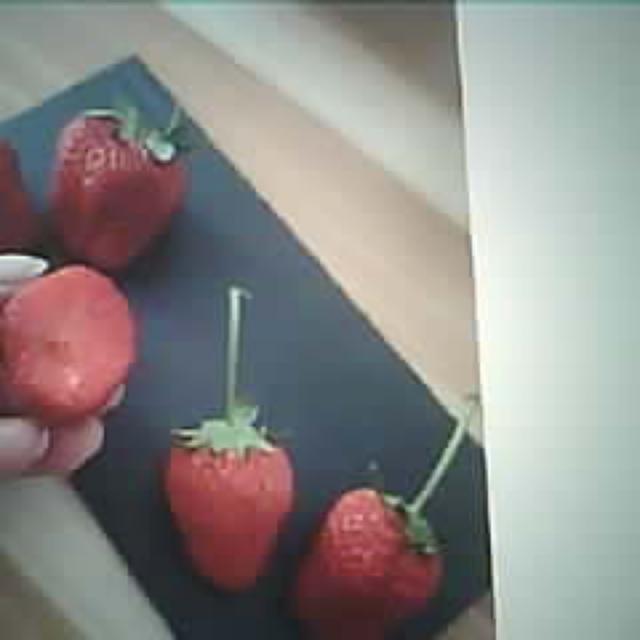ripe: (52, 106, 184, 270), (301, 488, 440, 640), (170, 428, 292, 594)
